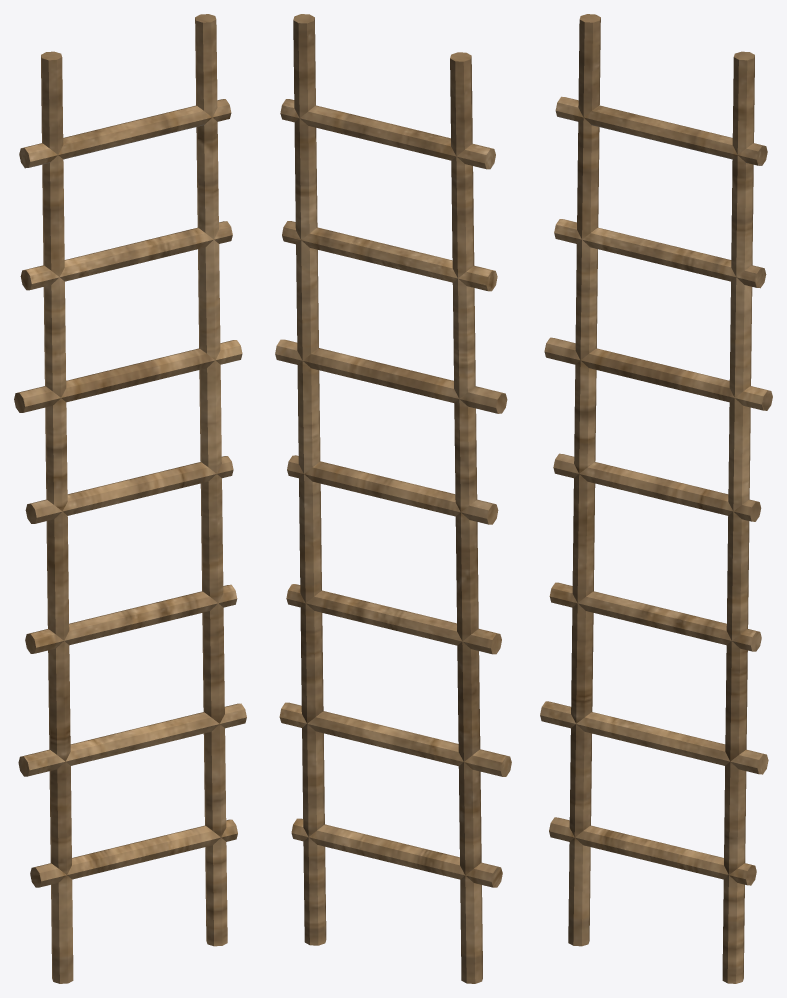
The model's file is uploads_files_3069049_wood+stairs.fbx.
The picture shows the model from 3 angles, left to right: view 1: azimuth 30°, elevation 25°; view 2: azimuth 150°, elevation 25°; view 3: azimuth 330°, elevation 25°; orthographic projection.
Visible parts, largest first — view 1: wood_stairs; view 2: wood_stairs; view 3: wood_stairs.
Part boxes in pixels (x1=…): wood_stairs: x1=14, y1=14, x2=246, y2=983; wood_stairs: x1=275, y1=14, x2=511, y2=983; wood_stairs: x1=540, y1=14, x2=772, y2=983.
Bounding box in the file's own units: 54.12 × 218 × 9.61.
